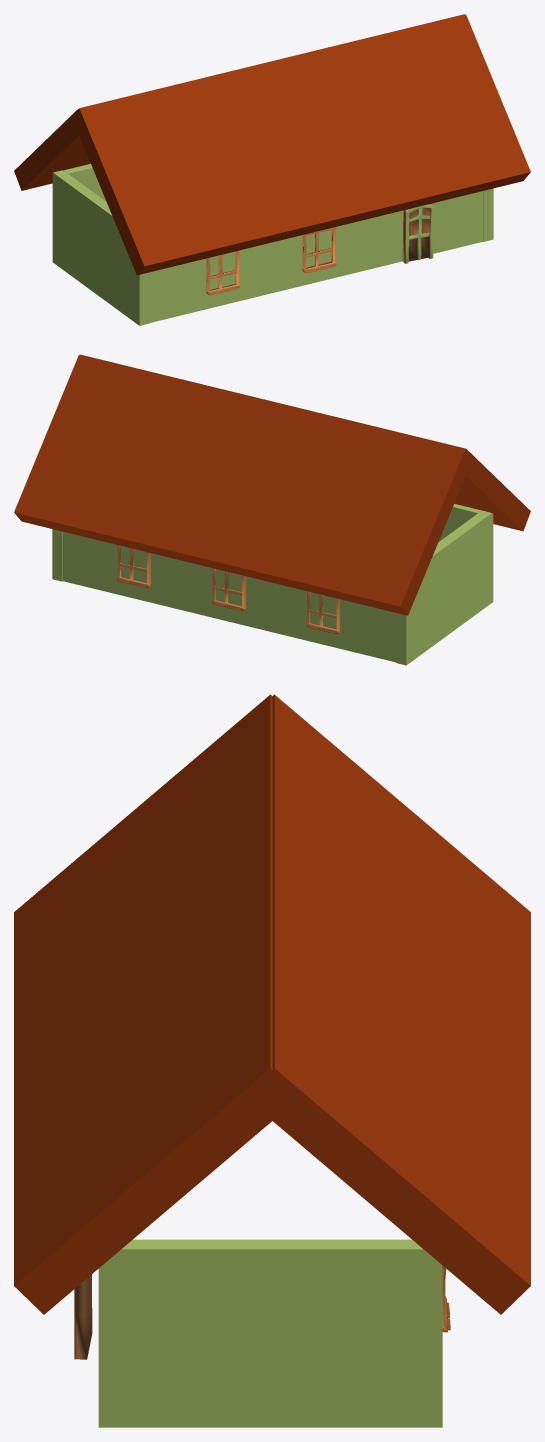
Rendered from Kelas 2.fbx.
The picture shows the model from 3 angles, top to bottom: view 1: azimuth 30°, elevation 25°; view 2: azimuth 150°, elevation 25°; view 3: azimuth 270°, elevation 25°; orthographic projection. The views are drawn at different scales.
Parts seen in each view (by area): view 1: Cube; view 2: Cube; view 3: Cube.
Part boxes in pixels (x1,y1,x2,y2): Cube: (14,14,530,325); Cube: (14,354,530,665); Cube: (14,694,530,1427).
Size of the model in its own units: 6198 by 2898 by 3623.
